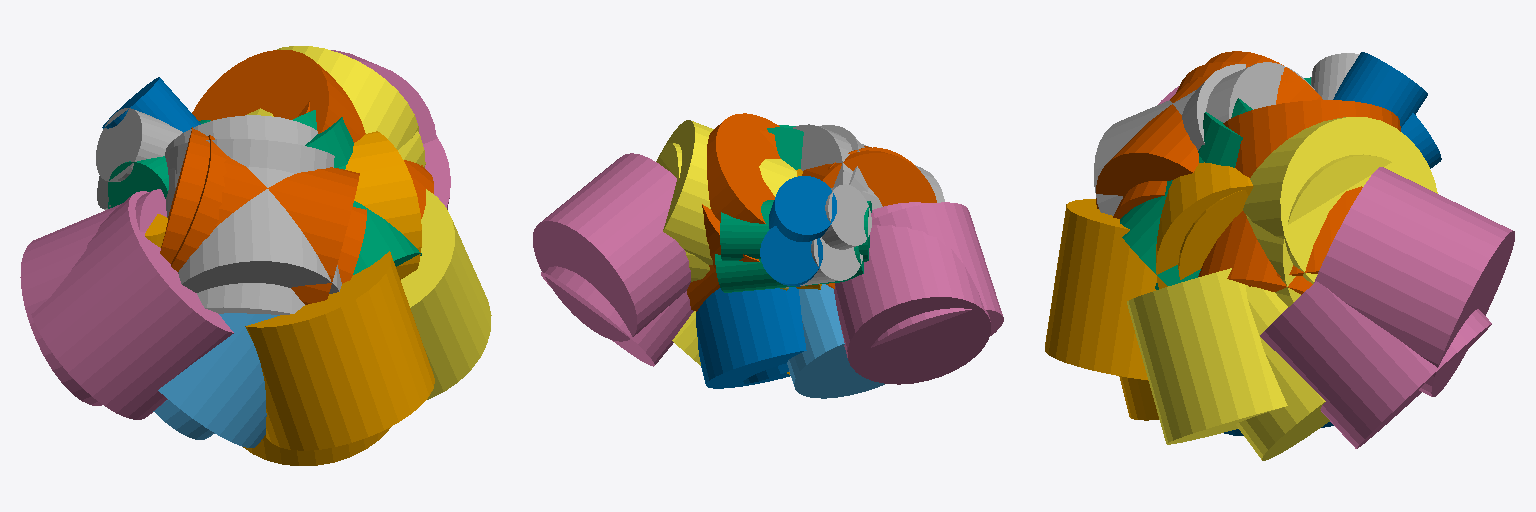
The robot description file, URDF, robot "pepe":
<?xml version="1.0"?><robot name="pepe">
	<link name="0">
		<visual>
			<geometry>
				<cylinder length="1.9998" radius="0.3287312538999837"/>
			</geometry>
		</visual>
		<collision>
			<geometry>
				<cylinder length="1.9998" radius="0.3287312538999837"/>
			</geometry>
		</collision>
		<inertial>
			<mass value="0.6789197292134176"/>
			<inertia ixx="0.03" iyy="0.03" izz="0.03" ixy="0" ixz="0" iyx="0"/>
		</inertial>
	</link>
	<link name="11">
		<visual>
			<geometry>
				<cylinder length="0.8725309341164451" radius="0.008449323153050359"/>
			</geometry>
		</visual>
		<collision>
			<geometry>
				<cylinder length="0.8725309341164451" radius="0.008449323153050359"/>
			</geometry>
		</collision>
		<inertial>
			<mass value="0.000195692664586854"/>
			<inertia ixx="0.03" iyy="0.03" izz="0.03" ixy="0" ixz="0" iyx="0"/>
		</inertial>
	</link>
	<link name="22">
		<visual>
			<geometry>
				<cylinder length="1.9998" radius="0.4287312538999837"/>
			</geometry>
		</visual>
		<collision>
			<geometry>
				<cylinder length="1.9998" radius="0.4287312538999837"/>
			</geometry>
		</collision>
		<inertial>
			<mass value="1.154799866415236"/>
			<inertia ixx="0.03" iyy="0.03" izz="0.03" ixy="0" ixz="0" iyx="0"/>
		</inertial>
	</link>
	<link name="33">
		<visual>
			<geometry>
				<cylinder length="1.9384461330246787" radius="0.9999"/>
			</geometry>
		</visual>
		<collision>
			<geometry>
				<cylinder length="1.9384461330246787" radius="0.9999"/>
			</geometry>
		</collision>
		<inertial>
			<mass value="6.088590230161777"/>
			<inertia ixx="0.03" iyy="0.03" izz="0.03" ixy="0" ixz="0" iyx="0"/>
		</inertial>
	</link>
	<link name="44">
		<visual>
			<geometry>
				<cylinder length="1.5936228897540667" radius="0.9999"/>
			</geometry>
		</visual>
		<collision>
			<geometry>
				<cylinder length="1.5936228897540667" radius="0.9999"/>
			</geometry>
		</collision>
		<inertial>
			<mass value="5.005512710316443"/>
			<inertia ixx="0.03" iyy="0.03" izz="0.03" ixy="0" ixz="0" iyx="0"/>
		</inertial>
	</link>
	<link name="35">
		<visual>
			<geometry>
				<cylinder length="1.9384461330246787" radius="0.9999"/>
			</geometry>
		</visual>
		<collision>
			<geometry>
				<cylinder length="1.9384461330246787" radius="0.9999"/>
			</geometry>
		</collision>
		<inertial>
			<mass value="6.088590230161777"/>
			<inertia ixx="0.03" iyy="0.03" izz="0.03" ixy="0" ixz="0" iyx="0"/>
		</inertial>
	</link>
	<link name="46">
		<visual>
			<geometry>
				<cylinder length="1.5936228897540667" radius="0.9999"/>
			</geometry>
		</visual>
		<collision>
			<geometry>
				<cylinder length="1.5936228897540667" radius="0.9999"/>
			</geometry>
		</collision>
		<inertial>
			<mass value="5.005512710316443"/>
			<inertia ixx="0.03" iyy="0.03" izz="0.03" ixy="0" ixz="0" iyx="0"/>
		</inertial>
	</link>
	<link name="27">
		<visual>
			<geometry>
				<cylinder length="1.9998" radius="0.4287312538999837"/>
			</geometry>
		</visual>
		<collision>
			<geometry>
				<cylinder length="1.9998" radius="0.4287312538999837"/>
			</geometry>
		</collision>
		<inertial>
			<mass value="1.154799866415236"/>
			<inertia ixx="0.03" iyy="0.03" izz="0.03" ixy="0" ixz="0" iyx="0"/>
		</inertial>
	</link>
	<link name="38">
		<visual>
			<geometry>
				<cylinder length="1.9384461330246787" radius="0.9999"/>
			</geometry>
		</visual>
		<collision>
			<geometry>
				<cylinder length="1.9384461330246787" radius="0.9999"/>
			</geometry>
		</collision>
		<inertial>
			<mass value="6.088590230161777"/>
			<inertia ixx="0.03" iyy="0.03" izz="0.03" ixy="0" ixz="0" iyx="0"/>
		</inertial>
	</link>
	<link name="49">
		<visual>
			<geometry>
				<cylinder length="1.5936228897540667" radius="0.9999"/>
			</geometry>
		</visual>
		<collision>
			<geometry>
				<cylinder length="1.5936228897540667" radius="0.9999"/>
			</geometry>
		</collision>
		<inertial>
			<mass value="5.005512710316443"/>
			<inertia ixx="0.03" iyy="0.03" izz="0.03" ixy="0" ixz="0" iyx="0"/>
		</inertial>
	</link>
	<link name="310">
		<visual>
			<geometry>
				<cylinder length="1.9384461330246787" radius="0.9999"/>
			</geometry>
		</visual>
		<collision>
			<geometry>
				<cylinder length="1.9384461330246787" radius="0.9999"/>
			</geometry>
		</collision>
		<inertial>
			<mass value="6.088590230161777"/>
			<inertia ixx="0.03" iyy="0.03" izz="0.03" ixy="0" ixz="0" iyx="0"/>
		</inertial>
	</link>
	<link name="411">
		<visual>
			<geometry>
				<cylinder length="1.5936228897540667" radius="0.9999"/>
			</geometry>
		</visual>
		<collision>
			<geometry>
				<cylinder length="1.5936228897540667" radius="0.9999"/>
			</geometry>
		</collision>
		<inertial>
			<mass value="5.005512710316443"/>
			<inertia ixx="0.03" iyy="0.03" izz="0.03" ixy="0" ixz="0" iyx="0"/>
		</inertial>
	</link>
	<link name="212">
		<visual>
			<geometry>
				<cylinder length="1.9998" radius="0.4287312538999837"/>
			</geometry>
		</visual>
		<collision>
			<geometry>
				<cylinder length="1.9998" radius="0.4287312538999837"/>
			</geometry>
		</collision>
		<inertial>
			<mass value="1.154799866415236"/>
			<inertia ixx="0.03" iyy="0.03" izz="0.03" ixy="0" ixz="0" iyx="0"/>
		</inertial>
	</link>
	<link name="313">
		<visual>
			<geometry>
				<cylinder length="1.9384461330246787" radius="0.9999"/>
			</geometry>
		</visual>
		<collision>
			<geometry>
				<cylinder length="1.9384461330246787" radius="0.9999"/>
			</geometry>
		</collision>
		<inertial>
			<mass value="6.088590230161777"/>
			<inertia ixx="0.03" iyy="0.03" izz="0.03" ixy="0" ixz="0" iyx="0"/>
		</inertial>
	</link>
	<link name="414">
		<visual>
			<geometry>
				<cylinder length="1.5936228897540667" radius="0.9999"/>
			</geometry>
		</visual>
		<collision>
			<geometry>
				<cylinder length="1.5936228897540667" radius="0.9999"/>
			</geometry>
		</collision>
		<inertial>
			<mass value="5.005512710316443"/>
			<inertia ixx="0.03" iyy="0.03" izz="0.03" ixy="0" ixz="0" iyx="0"/>
		</inertial>
	</link>
	<link name="315">
		<visual>
			<geometry>
				<cylinder length="1.9384461330246787" radius="0.9999"/>
			</geometry>
		</visual>
		<collision>
			<geometry>
				<cylinder length="1.9384461330246787" radius="0.9999"/>
			</geometry>
		</collision>
		<inertial>
			<mass value="6.088590230161777"/>
			<inertia ixx="0.03" iyy="0.03" izz="0.03" ixy="0" ixz="0" iyx="0"/>
		</inertial>
	</link>
	<link name="416">
		<visual>
			<geometry>
				<cylinder length="1.5936228897540667" radius="0.9999"/>
			</geometry>
		</visual>
		<collision>
			<geometry>
				<cylinder length="1.5936228897540667" radius="0.9999"/>
			</geometry>
		</collision>
		<inertial>
			<mass value="5.005512710316443"/>
			<inertia ixx="0.03" iyy="0.03" izz="0.03" ixy="0" ixz="0" iyx="0"/>
		</inertial>
	</link>
	<link name="117">
		<visual>
			<geometry>
				<cylinder length="0.8725309341164451" radius="0.008449323153050359"/>
			</geometry>
		</visual>
		<collision>
			<geometry>
				<cylinder length="0.8725309341164451" radius="0.008449323153050359"/>
			</geometry>
		</collision>
		<inertial>
			<mass value="0.000195692664586854"/>
			<inertia ixx="0.03" iyy="0.03" izz="0.03" ixy="0" ixz="0" iyx="0"/>
		</inertial>
	</link>
	<link name="218">
		<visual>
			<geometry>
				<cylinder length="1.9998" radius="0.4287312538999837"/>
			</geometry>
		</visual>
		<collision>
			<geometry>
				<cylinder length="1.9998" radius="0.4287312538999837"/>
			</geometry>
		</collision>
		<inertial>
			<mass value="1.154799866415236"/>
			<inertia ixx="0.03" iyy="0.03" izz="0.03" ixy="0" ixz="0" iyx="0"/>
		</inertial>
	</link>
	<link name="319">
		<visual>
			<geometry>
				<cylinder length="1.9384461330246787" radius="0.9999"/>
			</geometry>
		</visual>
		<collision>
			<geometry>
				<cylinder length="1.9384461330246787" radius="0.9999"/>
			</geometry>
		</collision>
		<inertial>
			<mass value="6.088590230161777"/>
			<inertia ixx="0.03" iyy="0.03" izz="0.03" ixy="0" ixz="0" iyx="0"/>
		</inertial>
	</link>
	<link name="420">
		<visual>
			<geometry>
				<cylinder length="1.5936228897540667" radius="0.9999"/>
			</geometry>
		</visual>
		<collision>
			<geometry>
				<cylinder length="1.5936228897540667" radius="0.9999"/>
			</geometry>
		</collision>
		<inertial>
			<mass value="5.005512710316443"/>
			<inertia ixx="0.03" iyy="0.03" izz="0.03" ixy="0" ixz="0" iyx="0"/>
		</inertial>
	</link>
	<link name="321">
		<visual>
			<geometry>
				<cylinder length="1.9384461330246787" radius="0.9999"/>
			</geometry>
		</visual>
		<collision>
			<geometry>
				<cylinder length="1.9384461330246787" radius="0.9999"/>
			</geometry>
		</collision>
		<inertial>
			<mass value="6.088590230161777"/>
			<inertia ixx="0.03" iyy="0.03" izz="0.03" ixy="0" ixz="0" iyx="0"/>
		</inertial>
	</link>
	<link name="422">
		<visual>
			<geometry>
				<cylinder length="1.5936228897540667" radius="0.9999"/>
			</geometry>
		</visual>
		<collision>
			<geometry>
				<cylinder length="1.5936228897540667" radius="0.9999"/>
			</geometry>
		</collision>
		<inertial>
			<mass value="5.005512710316443"/>
			<inertia ixx="0.03" iyy="0.03" izz="0.03" ixy="0" ixz="0" iyx="0"/>
		</inertial>
	</link>
	<link name="223">
		<visual>
			<geometry>
				<cylinder length="1.9998" radius="0.4287312538999837"/>
			</geometry>
		</visual>
		<collision>
			<geometry>
				<cylinder length="1.9998" radius="0.4287312538999837"/>
			</geometry>
		</collision>
		<inertial>
			<mass value="1.154799866415236"/>
			<inertia ixx="0.03" iyy="0.03" izz="0.03" ixy="0" ixz="0" iyx="0"/>
		</inertial>
	</link>
	<link name="324">
		<visual>
			<geometry>
				<cylinder length="1.9384461330246787" radius="0.9999"/>
			</geometry>
		</visual>
		<collision>
			<geometry>
				<cylinder length="1.9384461330246787" radius="0.9999"/>
			</geometry>
		</collision>
		<inertial>
			<mass value="6.088590230161777"/>
			<inertia ixx="0.03" iyy="0.03" izz="0.03" ixy="0" ixz="0" iyx="0"/>
		</inertial>
	</link>
	<link name="425">
		<visual>
			<geometry>
				<cylinder length="1.5936228897540667" radius="0.9999"/>
			</geometry>
		</visual>
		<collision>
			<geometry>
				<cylinder length="1.5936228897540667" radius="0.9999"/>
			</geometry>
		</collision>
		<inertial>
			<mass value="5.005512710316443"/>
			<inertia ixx="0.03" iyy="0.03" izz="0.03" ixy="0" ixz="0" iyx="0"/>
		</inertial>
	</link>
	<link name="326">
		<visual>
			<geometry>
				<cylinder length="1.9384461330246787" radius="0.9999"/>
			</geometry>
		</visual>
		<collision>
			<geometry>
				<cylinder length="1.9384461330246787" radius="0.9999"/>
			</geometry>
		</collision>
		<inertial>
			<mass value="6.088590230161777"/>
			<inertia ixx="0.03" iyy="0.03" izz="0.03" ixy="0" ixz="0" iyx="0"/>
		</inertial>
	</link>
	<link name="427">
		<visual>
			<geometry>
				<cylinder length="1.5936228897540667" radius="0.9999"/>
			</geometry>
		</visual>
		<collision>
			<geometry>
				<cylinder length="1.5936228897540667" radius="0.9999"/>
			</geometry>
		</collision>
		<inertial>
			<mass value="5.005512710316443"/>
			<inertia ixx="0.03" iyy="0.03" izz="0.03" ixy="0" ixz="0" iyx="0"/>
		</inertial>
	</link>
	<link name="228">
		<visual>
			<geometry>
				<cylinder length="1.9998" radius="0.4287312538999837"/>
			</geometry>
		</visual>
		<collision>
			<geometry>
				<cylinder length="1.9998" radius="0.4287312538999837"/>
			</geometry>
		</collision>
		<inertial>
			<mass value="1.154799866415236"/>
			<inertia ixx="0.03" iyy="0.03" izz="0.03" ixy="0" ixz="0" iyx="0"/>
		</inertial>
	</link>
	<link name="329">
		<visual>
			<geometry>
				<cylinder length="1.9384461330246787" radius="0.9999"/>
			</geometry>
		</visual>
		<collision>
			<geometry>
				<cylinder length="1.9384461330246787" radius="0.9999"/>
			</geometry>
		</collision>
		<inertial>
			<mass value="6.088590230161777"/>
			<inertia ixx="0.03" iyy="0.03" izz="0.03" ixy="0" ixz="0" iyx="0"/>
		</inertial>
	</link>
	<link name="430">
		<visual>
			<geometry>
				<cylinder length="1.5936228897540667" radius="0.9999"/>
			</geometry>
		</visual>
		<collision>
			<geometry>
				<cylinder length="1.5936228897540667" radius="0.9999"/>
			</geometry>
		</collision>
		<inertial>
			<mass value="5.005512710316443"/>
			<inertia ixx="0.03" iyy="0.03" izz="0.03" ixy="0" ixz="0" iyx="0"/>
		</inertial>
	</link>
	<link name="331">
		<visual>
			<geometry>
				<cylinder length="1.9384461330246787" radius="0.9999"/>
			</geometry>
		</visual>
		<collision>
			<geometry>
				<cylinder length="1.9384461330246787" radius="0.9999"/>
			</geometry>
		</collision>
		<inertial>
			<mass value="6.088590230161777"/>
			<inertia ixx="0.03" iyy="0.03" izz="0.03" ixy="0" ixz="0" iyx="0"/>
		</inertial>
	</link>
	<link name="432">
		<visual>
			<geometry>
				<cylinder length="1.5936228897540667" radius="0.9999"/>
			</geometry>
		</visual>
		<collision>
			<geometry>
				<cylinder length="1.5936228897540667" radius="0.9999"/>
			</geometry>
		</collision>
		<inertial>
			<mass value="5.005512710316443"/>
			<inertia ixx="0.03" iyy="0.03" izz="0.03" ixy="0" ixz="0" iyx="0"/>
		</inertial>
	</link>
	<joint name="11_to_0" type="revolute">
		<parent link="0"/>
		<child link="11"/>
		<axis xyz="0 0 1"/>
		<limit effort="1" upper="-3.1415" lower="3.1415" velocity="1"/>
		<origin rpy="11.78115124019556 6.15396785697393 6.282556988648868" xyz="0.810567376761803 0.22080547168791068 0.6822198228410485"/>
	</joint>
	<joint name="22_to_11" type="revolute">
		<parent link="11"/>
		<child link="22"/>
		<axis xyz="0 0 1"/>
		<limit effort="1" upper="-3.1415" lower="3.1415" velocity="1"/>
		<origin rpy="11.198041970734582 6.282556988648868 5.136270014121536" xyz="0.5018096714852599 0.5430850222377244 0.7730469414713864"/>
	</joint>
	<joint name="33_to_22" type="revolute">
		<parent link="22"/>
		<child link="33"/>
		<axis xyz="0 1 0"/>
		<limit effort="1" upper="-3.1415" lower="3.1415" velocity="1"/>
		<origin rpy="8.93924362351354 6.282556988648868 3.5968973364834684" xyz="0.505589849595416 0.6828551726762163 0.9999"/>
	</joint>
	<joint name="44_to_33" type="revolute">
		<parent link="33"/>
		<child link="44"/>
		<axis xyz="1 0 0"/>
		<limit effort="1" upper="-3.1415" lower="3.1415" velocity="1"/>
		<origin rpy="7.01206142877142 5.4731487437080375 2.7671162670492686" xyz="0.5455613102967246 0.9231355014506477 0.9999"/>
	</joint>
	<joint name="35_to_22" type="revolute">
		<parent link="22"/>
		<child link="35"/>
		<axis xyz="0 1 0"/>
		<limit effort="1" upper="-3.1415" lower="3.1415" velocity="1"/>
		<origin rpy="13.408865435270311 6.282556988648868 3.5968973364834684" xyz="0.505589849595416 0.6828551726762163 0.9999"/>
	</joint>
	<joint name="46_to_35" type="revolute">
		<parent link="35"/>
		<child link="46"/>
		<axis xyz="1 0 0"/>
		<limit effort="1" upper="-3.1415" lower="3.1415" velocity="1"/>
		<origin rpy="7.01206142877142 5.4731487437080375 2.7671162670492686" xyz="0.5455613102967246 0.9231355014506477 0.9999"/>
	</joint>
	<joint name="27_to_11" type="revolute">
		<parent link="11"/>
		<child link="27"/>
		<axis xyz="0 0 1"/>
		<limit effort="1" upper="-3.1415" lower="3.1415" velocity="1"/>
		<origin rpy="16.797062956101875 6.282556988648868 5.136270014121536" xyz="0.5018096714852599 0.5430850222377244 0.7730469414713864"/>
	</joint>
	<joint name="38_to_27" type="revolute">
		<parent link="27"/>
		<child link="38"/>
		<axis xyz="0 1 0"/>
		<limit effort="1" upper="-3.1415" lower="3.1415" velocity="1"/>
		<origin rpy="8.93924362351354 6.282556988648868 3.5968973364834684" xyz="0.505589849595416 0.6828551726762163 0.9999"/>
	</joint>
	<joint name="49_to_38" type="revolute">
		<parent link="38"/>
		<child link="49"/>
		<axis xyz="1 0 0"/>
		<limit effort="1" upper="-3.1415" lower="3.1415" velocity="1"/>
		<origin rpy="7.01206142877142 5.4731487437080375 2.7671162670492686" xyz="0.5455613102967246 0.9231355014506477 0.9999"/>
	</joint>
	<joint name="310_to_27" type="revolute">
		<parent link="27"/>
		<child link="310"/>
		<axis xyz="0 1 0"/>
		<limit effort="1" upper="-3.1415" lower="3.1415" velocity="1"/>
		<origin rpy="13.408865435270311 6.282556988648868 3.5968973364834684" xyz="0.505589849595416 0.6828551726762163 0.9999"/>
	</joint>
	<joint name="411_to_310" type="revolute">
		<parent link="310"/>
		<child link="411"/>
		<axis xyz="1 0 0"/>
		<limit effort="1" upper="-3.1415" lower="3.1415" velocity="1"/>
		<origin rpy="7.01206142877142 5.4731487437080375 2.7671162670492686" xyz="0.5455613102967246 0.9231355014506477 0.9999"/>
	</joint>
	<joint name="212_to_11" type="revolute">
		<parent link="11"/>
		<child link="212"/>
		<axis xyz="0 0 1"/>
		<limit effort="1" upper="-3.1415" lower="3.1415" velocity="1"/>
		<origin rpy="22.396083941469165 6.282556988648868 5.136270014121536" xyz="0.5018096714852599 0.5430850222377244 0.7730469414713864"/>
	</joint>
	<joint name="313_to_212" type="revolute">
		<parent link="212"/>
		<child link="313"/>
		<axis xyz="0 1 0"/>
		<limit effort="1" upper="-3.1415" lower="3.1415" velocity="1"/>
		<origin rpy="8.93924362351354 6.282556988648868 3.5968973364834684" xyz="0.505589849595416 0.6828551726762163 0.9999"/>
	</joint>
	<joint name="414_to_313" type="revolute">
		<parent link="313"/>
		<child link="414"/>
		<axis xyz="1 0 0"/>
		<limit effort="1" upper="-3.1415" lower="3.1415" velocity="1"/>
		<origin rpy="7.01206142877142 5.4731487437080375 2.7671162670492686" xyz="0.5455613102967246 0.9231355014506477 0.9999"/>
	</joint>
	<joint name="315_to_212" type="revolute">
		<parent link="212"/>
		<child link="315"/>
		<axis xyz="0 1 0"/>
		<limit effort="1" upper="-3.1415" lower="3.1415" velocity="1"/>
		<origin rpy="13.408865435270311 6.282556988648868 3.5968973364834684" xyz="0.505589849595416 0.6828551726762163 0.9999"/>
	</joint>
	<joint name="416_to_315" type="revolute">
		<parent link="315"/>
		<child link="416"/>
		<axis xyz="1 0 0"/>
		<limit effort="1" upper="-3.1415" lower="3.1415" velocity="1"/>
		<origin rpy="7.01206142877142 5.4731487437080375 2.7671162670492686" xyz="0.5455613102967246 0.9231355014506477 0.9999"/>
	</joint>
	<joint name="117_to_0" type="revolute">
		<parent link="0"/>
		<child link="117"/>
		<axis xyz="0 0 1"/>
		<limit effort="1" upper="-3.1415" lower="3.1415" velocity="1"/>
		<origin rpy="17.67172686029334 6.15396785697393 6.282556988648868" xyz="0.810567376761803 0.22080547168791068 0.6822198228410485"/>
	</joint>
	<joint name="218_to_117" type="revolute">
		<parent link="117"/>
		<child link="218"/>
		<axis xyz="0 0 1"/>
		<limit effort="1" upper="-3.1415" lower="3.1415" velocity="1"/>
		<origin rpy="11.198041970734582 6.282556988648868 5.136270014121536" xyz="0.5018096714852599 0.5430850222377244 0.7730469414713864"/>
	</joint>
	<joint name="319_to_218" type="revolute">
		<parent link="218"/>
		<child link="319"/>
		<axis xyz="0 1 0"/>
		<limit effort="1" upper="-3.1415" lower="3.1415" velocity="1"/>
		<origin rpy="8.93924362351354 6.282556988648868 3.5968973364834684" xyz="0.505589849595416 0.6828551726762163 0.9999"/>
	</joint>
	<joint name="420_to_319" type="revolute">
		<parent link="319"/>
		<child link="420"/>
		<axis xyz="1 0 0"/>
		<limit effort="1" upper="-3.1415" lower="3.1415" velocity="1"/>
		<origin rpy="7.01206142877142 5.4731487437080375 2.7671162670492686" xyz="0.5455613102967246 0.9231355014506477 0.9999"/>
	</joint>
	<joint name="321_to_218" type="revolute">
		<parent link="218"/>
		<child link="321"/>
		<axis xyz="0 1 0"/>
		<limit effort="1" upper="-3.1415" lower="3.1415" velocity="1"/>
		<origin rpy="13.408865435270311 6.282556988648868 3.5968973364834684" xyz="0.505589849595416 0.6828551726762163 0.9999"/>
	</joint>
	<joint name="422_to_321" type="revolute">
		<parent link="321"/>
		<child link="422"/>
		<axis xyz="1 0 0"/>
		<limit effort="1" upper="-3.1415" lower="3.1415" velocity="1"/>
		<origin rpy="7.01206142877142 5.4731487437080375 2.7671162670492686" xyz="0.5455613102967246 0.9231355014506477 0.9999"/>
	</joint>
	<joint name="223_to_117" type="revolute">
		<parent link="117"/>
		<child link="223"/>
		<axis xyz="0 0 1"/>
		<limit effort="1" upper="-3.1415" lower="3.1415" velocity="1"/>
		<origin rpy="16.797062956101875 6.282556988648868 5.136270014121536" xyz="0.5018096714852599 0.5430850222377244 0.7730469414713864"/>
	</joint>
	<joint name="324_to_223" type="revolute">
		<parent link="223"/>
		<child link="324"/>
		<axis xyz="0 1 0"/>
		<limit effort="1" upper="-3.1415" lower="3.1415" velocity="1"/>
		<origin rpy="8.93924362351354 6.282556988648868 3.5968973364834684" xyz="0.505589849595416 0.6828551726762163 0.9999"/>
	</joint>
	<joint name="425_to_324" type="revolute">
		<parent link="324"/>
		<child link="425"/>
		<axis xyz="1 0 0"/>
		<limit effort="1" upper="-3.1415" lower="3.1415" velocity="1"/>
		<origin rpy="7.01206142877142 5.4731487437080375 2.7671162670492686" xyz="0.5455613102967246 0.9231355014506477 0.9999"/>
	</joint>
	<joint name="326_to_223" type="revolute">
		<parent link="223"/>
		<child link="326"/>
		<axis xyz="0 1 0"/>
		<limit effort="1" upper="-3.1415" lower="3.1415" velocity="1"/>
		<origin rpy="13.408865435270311 6.282556988648868 3.5968973364834684" xyz="0.505589849595416 0.6828551726762163 0.9999"/>
	</joint>
	<joint name="427_to_326" type="revolute">
		<parent link="326"/>
		<child link="427"/>
		<axis xyz="1 0 0"/>
		<limit effort="1" upper="-3.1415" lower="3.1415" velocity="1"/>
		<origin rpy="7.01206142877142 5.4731487437080375 2.7671162670492686" xyz="0.5455613102967246 0.9231355014506477 0.9999"/>
	</joint>
	<joint name="228_to_117" type="revolute">
		<parent link="117"/>
		<child link="228"/>
		<axis xyz="0 0 1"/>
		<limit effort="1" upper="-3.1415" lower="3.1415" velocity="1"/>
		<origin rpy="22.396083941469165 6.282556988648868 5.136270014121536" xyz="0.5018096714852599 0.5430850222377244 0.7730469414713864"/>
	</joint>
	<joint name="329_to_228" type="revolute">
		<parent link="228"/>
		<child link="329"/>
		<axis xyz="0 1 0"/>
		<limit effort="1" upper="-3.1415" lower="3.1415" velocity="1"/>
		<origin rpy="8.93924362351354 6.282556988648868 3.5968973364834684" xyz="0.505589849595416 0.6828551726762163 0.9999"/>
	</joint>
	<joint name="430_to_329" type="revolute">
		<parent link="329"/>
		<child link="430"/>
		<axis xyz="1 0 0"/>
		<limit effort="1" upper="-3.1415" lower="3.1415" velocity="1"/>
		<origin rpy="7.01206142877142 5.4731487437080375 2.7671162670492686" xyz="0.5455613102967246 0.9231355014506477 0.9999"/>
	</joint>
	<joint name="331_to_228" type="revolute">
		<parent link="228"/>
		<child link="331"/>
		<axis xyz="0 1 0"/>
		<limit effort="1" upper="-3.1415" lower="3.1415" velocity="1"/>
		<origin rpy="13.408865435270311 6.282556988648868 3.5968973364834684" xyz="0.505589849595416 0.6828551726762163 0.9999"/>
	</joint>
	<joint name="432_to_331" type="revolute">
		<parent link="331"/>
		<child link="432"/>
		<axis xyz="1 0 0"/>
		<limit effort="1" upper="-3.1415" lower="3.1415" velocity="1"/>
		<origin rpy="7.01206142877142 5.4731487437080375 2.7671162670492686" xyz="0.5455613102967246 0.9231355014506477 0.9999"/>
	</joint>
</robot>

--- Facts derived from the render (not from the file) ---
3 views of the same robot in one strip: view 1: azimuth 30°, elevation 25°; view 2: azimuth 150°, elevation 25°; view 3: azimuth 270°, elevation 25° (orthographic).
Robot: pepe — 33 links, 32 joints (32 revolute); root link 0; default pose: every joint at zero.
Links seen in each view (by area): view 1: 432, 430, 331, 329, 427, 425, 35, 414, 315, 324, 33, 313 (+11 smaller); view 2: 46, 414, 44, 35, 430, 49, 33, 422, 329, 212, 331, 228 (+9 smaller); view 3: 46, 427, 422, 432, 33, 329, 35, 411, 331, 324, 319, 321 (+9 smaller).
Boxes of the visible links, x1,y1,x2,y2 form: 432: (245, 251, 434, 450); 430: (31, 191, 233, 419); 331: (165, 115, 341, 293); 329: (160, 127, 359, 304); 427: (401, 189, 491, 399); 425: (158, 313, 279, 447); 35: (192, 50, 422, 166); 414: (20, 189, 166, 405); 315: (169, 139, 334, 314); 324: (345, 131, 421, 279); 33: (247, 46, 418, 149); 313: (171, 135, 366, 283); 46: (533, 153, 690, 341); 414: (834, 202, 990, 384); 44: (696, 287, 806, 388); 35: (687, 113, 780, 311); 430: (871, 202, 1003, 347); 49: (787, 284, 884, 398); 33: (656, 120, 796, 290); 422: (541, 266, 693, 366); 329: (802, 146, 936, 288); 212: (769, 176, 836, 241); 331: (793, 124, 944, 209); 228: (760, 226, 822, 286); 46: (1314, 167, 1514, 396); 427: (1127, 268, 1287, 444); 422: (1260, 281, 1491, 448); 432: (1045, 199, 1156, 380); 33: (1243, 117, 1437, 283); 329: (1096, 51, 1322, 208); 35: (1223, 100, 1400, 286); 411: (1236, 285, 1329, 460); 331: (1094, 62, 1314, 215); 324: (1156, 162, 1253, 288); 319: (1246, 154, 1391, 306); 321: (1198, 211, 1312, 294).
Size in the robot's own frame: 6.08 by 5.08 by 4.09 metres.
Geometry: primitives only (box / cylinder / sphere), no mesh files.
